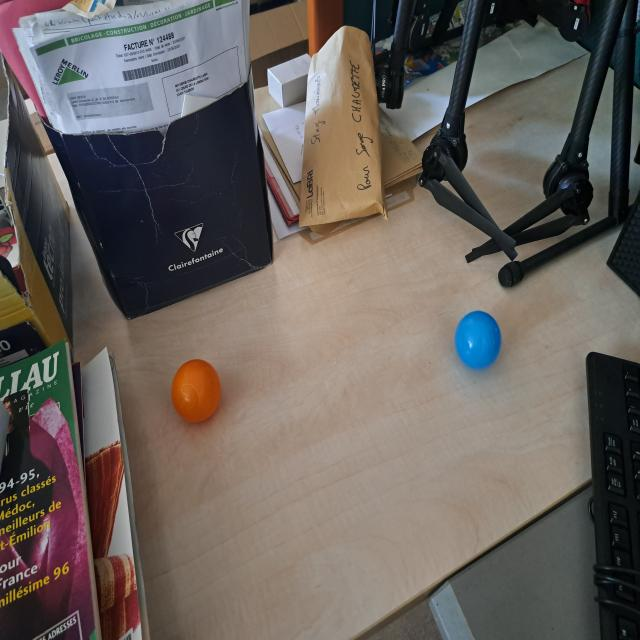blue: (452, 309, 503, 372)
orange: (170, 357, 222, 426)
